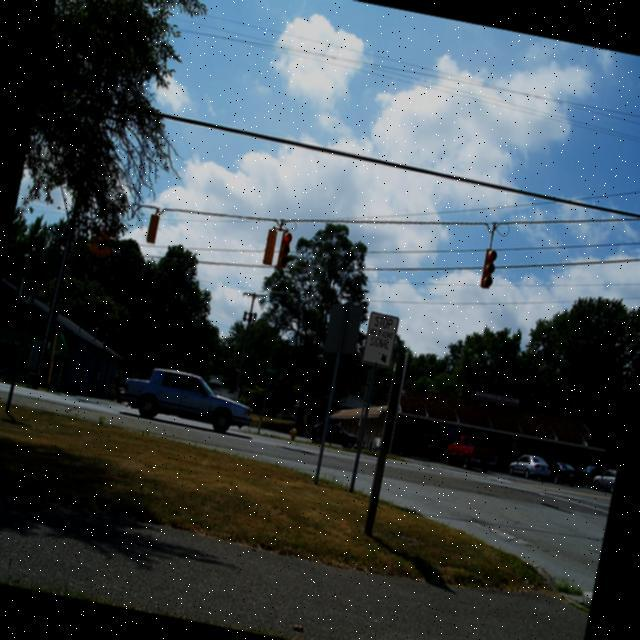fire_hydrant: (288, 429, 296, 440)
